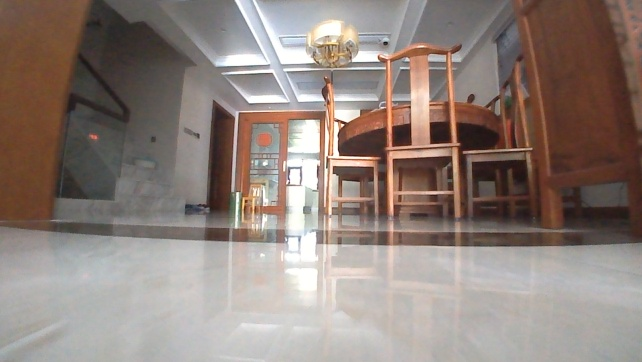dining_table: (315, 29, 543, 218)
